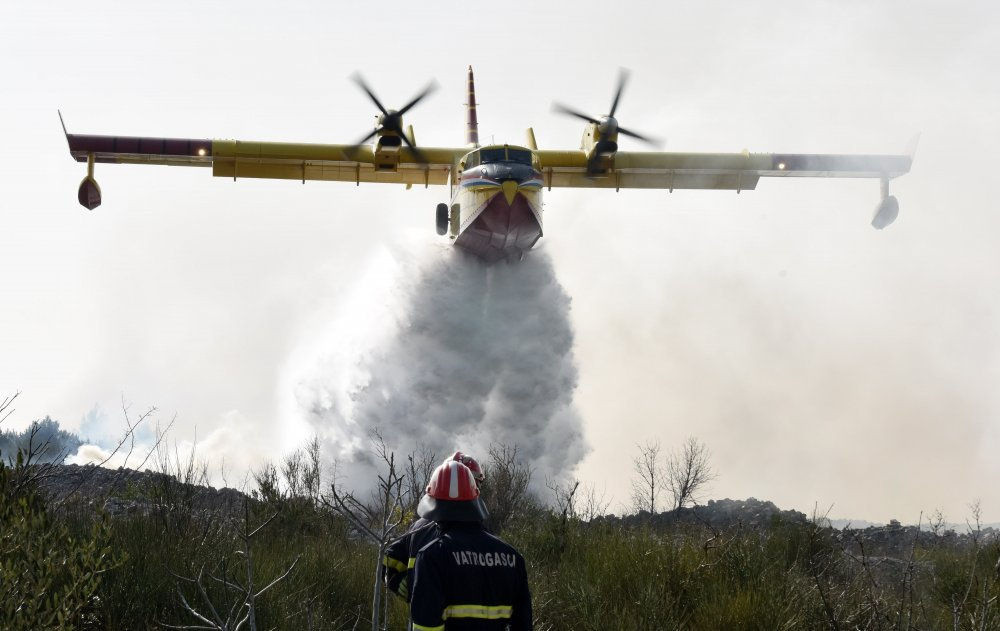plane: (57, 62, 911, 267)
